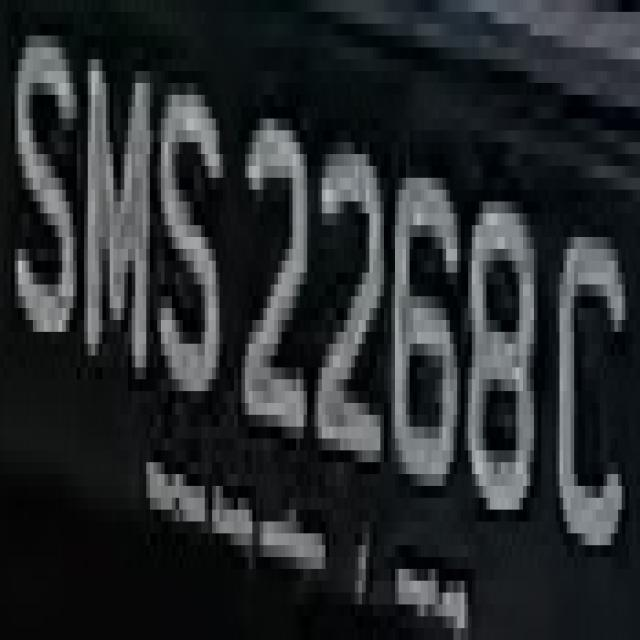2: (230, 71, 311, 486), (314, 130, 398, 498)
6: (384, 154, 461, 498)
8: (468, 154, 541, 545)
C: (552, 166, 633, 593)
M: (76, 59, 154, 415)
S: (3, 0, 76, 379), (161, 59, 227, 427)
